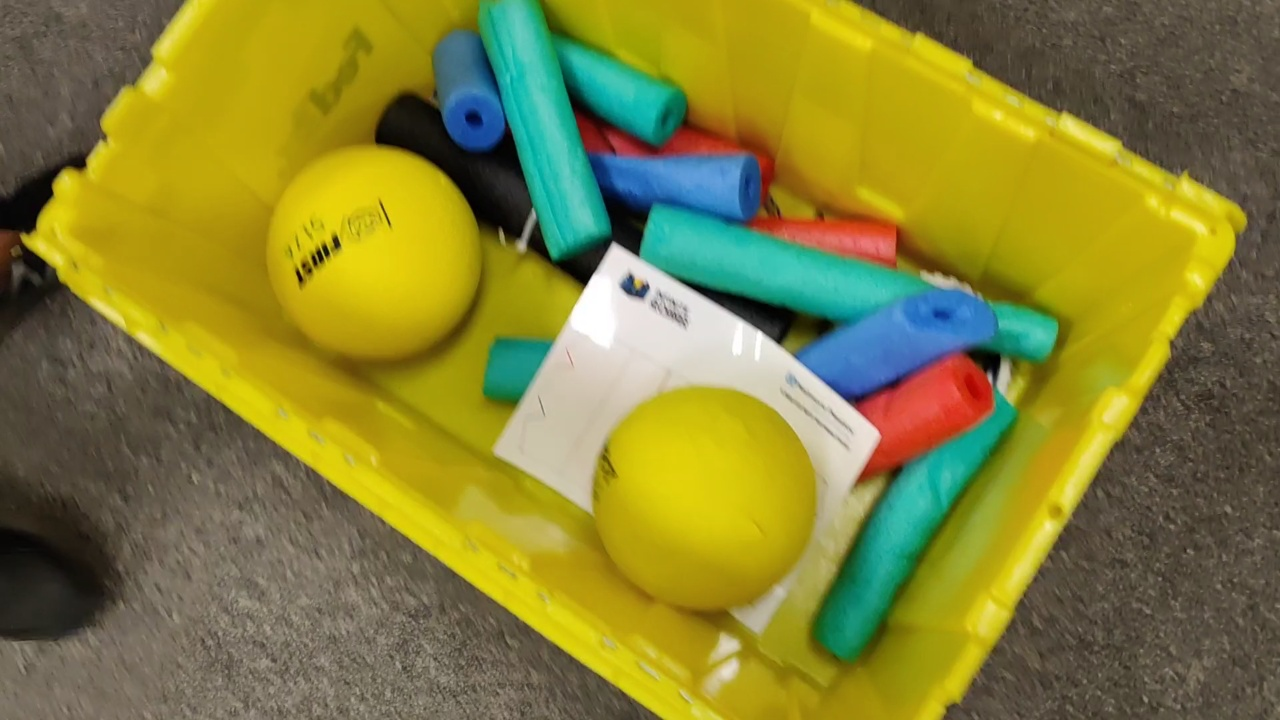Ball: (600, 388, 817, 621), (272, 145, 482, 363)
